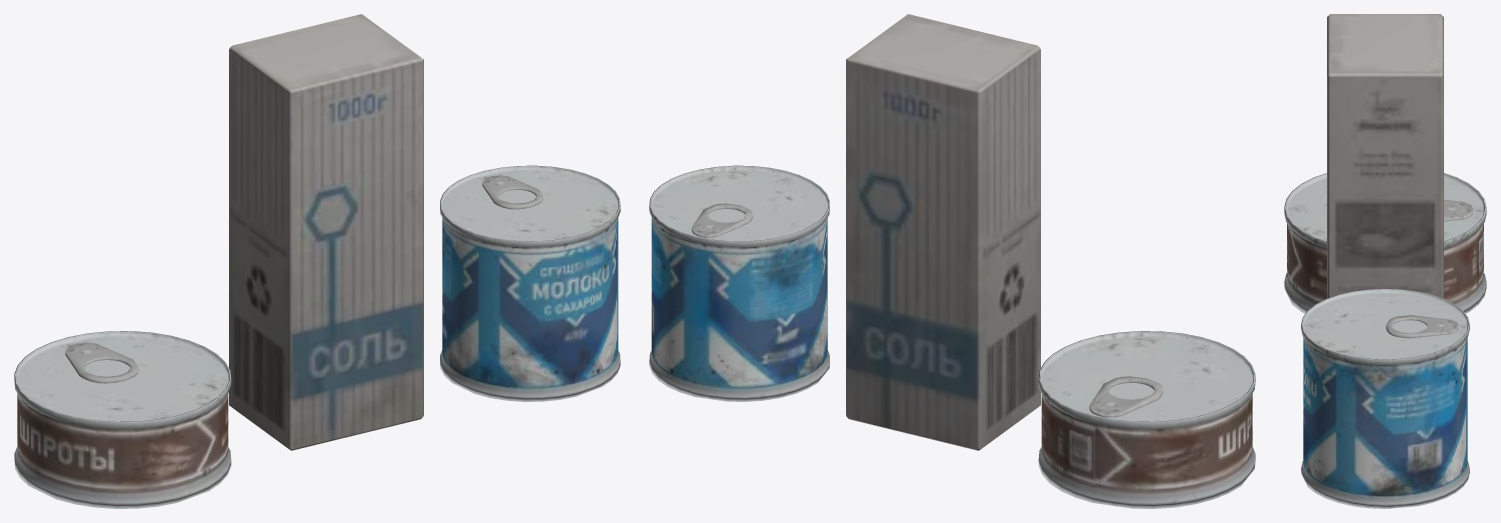
The model's file is russian_food_cans_01.glb.
3 renders of one model, left to right at view 1: azimuth 30°, elevation 25°; view 2: azimuth 150°, elevation 25°; view 3: azimuth 270°, elevation 25°, orthographic. The views are drawn at different scales.
Parts seen in each view (by area): view 1: russian_food_cans_01_salt_box, russian_food_cans_01_can_cond, russian_food_cans_01_can_fish; view 2: russian_food_cans_01_salt_box, russian_food_cans_01_can_cond, russian_food_cans_01_can_fish; view 3: russian_food_cans_01_can_cond, russian_food_cans_01_salt_box, russian_food_cans_01_can_fish.
Part boxes in pixels (<box>): russian_food_cans_01_salt_box: <box>229,14,423,450</box>; russian_food_cans_01_can_cond: <box>440,165,620,401</box>; russian_food_cans_01_can_fish: <box>14,331,231,508</box>; russian_food_cans_01_salt_box: <box>846,14,1040,450</box>; russian_food_cans_01_can_cond: <box>649,165,829,401</box>; russian_food_cans_01_can_fish: <box>1038,331,1255,508</box>; russian_food_cans_01_can_cond: <box>1301,288,1469,508</box>; russian_food_cans_01_salt_box: <box>1327,14,1443,298</box>; russian_food_cans_01_can_fish: <box>1284,173,1486,313</box>.
Size of the model in its own units: 0.1424 by 0.0849 by 0.0462.
Materials: 1 (1 with a texture image).
